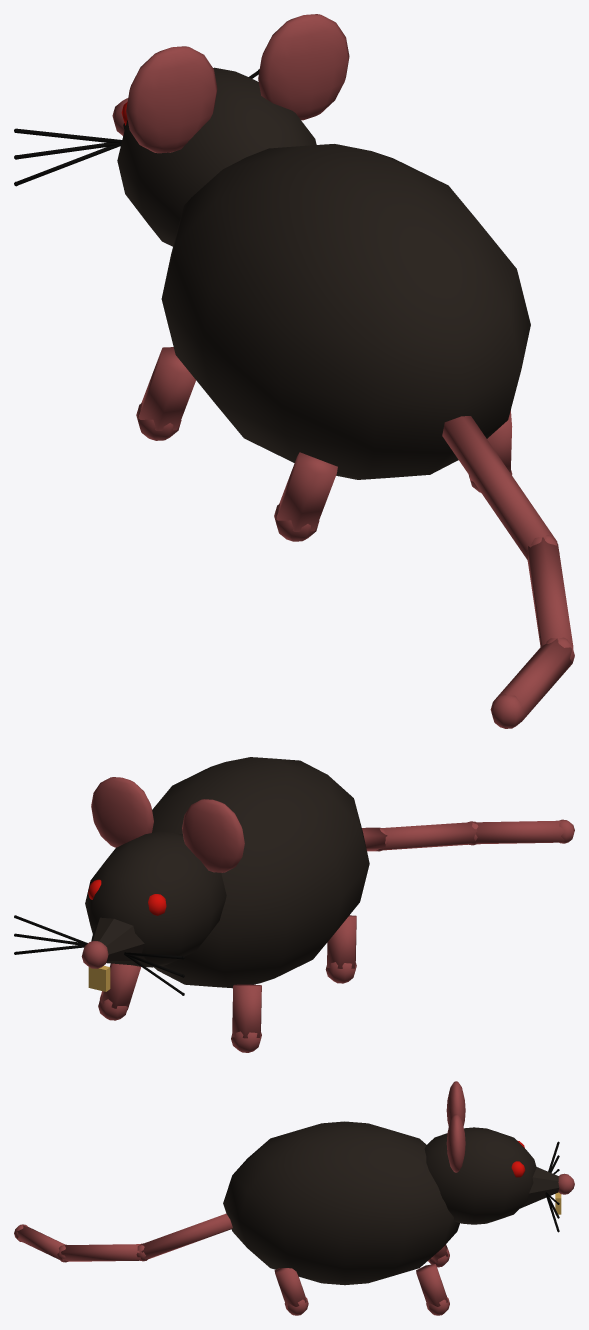
File: mob_tikus_gua.obj
3 views of the same model, one above another, from view 1: azimuth 30°, elevation 25°; view 2: azimuth 150°, elevation 25°; view 3: azimuth 270°, elevation 25° (orthographic). The views are drawn at different scales.
Parts seen in each view (by area): view 1: mob_tikus_gua; view 2: mob_tikus_gua; view 3: mob_tikus_gua.
Boxes of the visible parts, x1=… form: mob_tikus_gua: x1=14, y1=14, x2=574, y2=728; mob_tikus_gua: x1=14, y1=757, x2=574, y2=1052; mob_tikus_gua: x1=14, y1=1081, x2=574, y2=1315.
Bounding box in the file's own units: 0.615 × 0.699 × 1.86.
